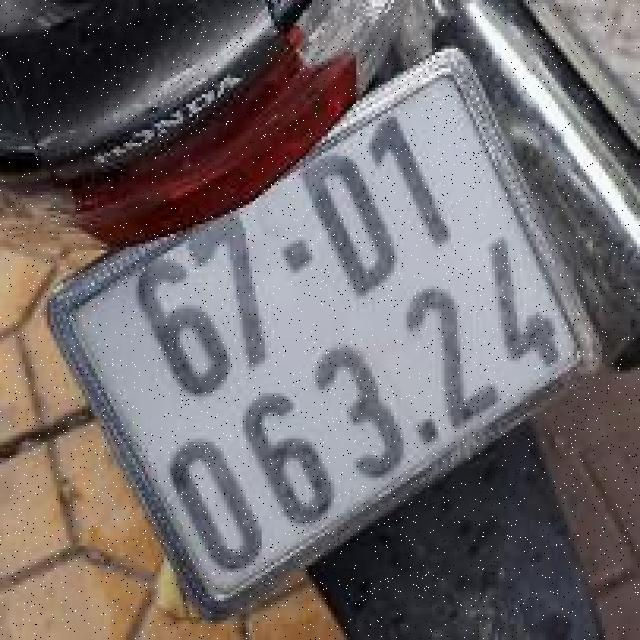0: (143, 408, 261, 568)
1: (365, 93, 462, 259)
2: (390, 278, 502, 438)
3: (293, 326, 419, 498)
4: (469, 226, 581, 397)
6: (115, 227, 240, 404), (225, 369, 345, 535)
7: (189, 177, 293, 369)
D: (292, 124, 415, 309)
